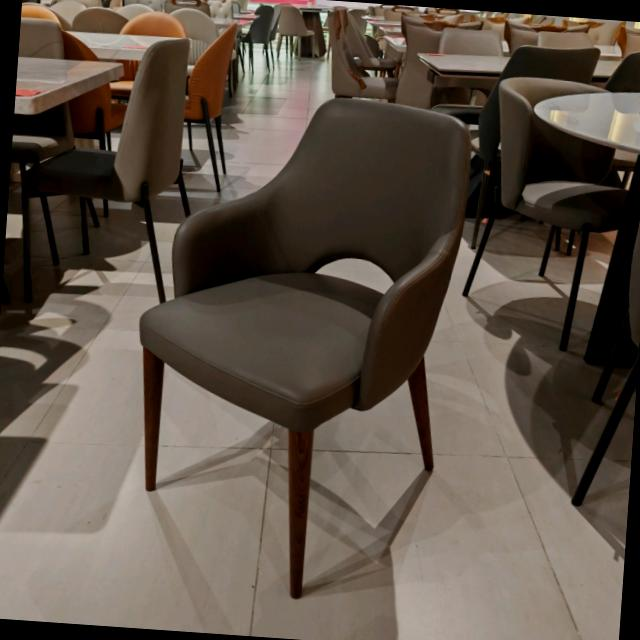Chair: (118, 86, 478, 628)
